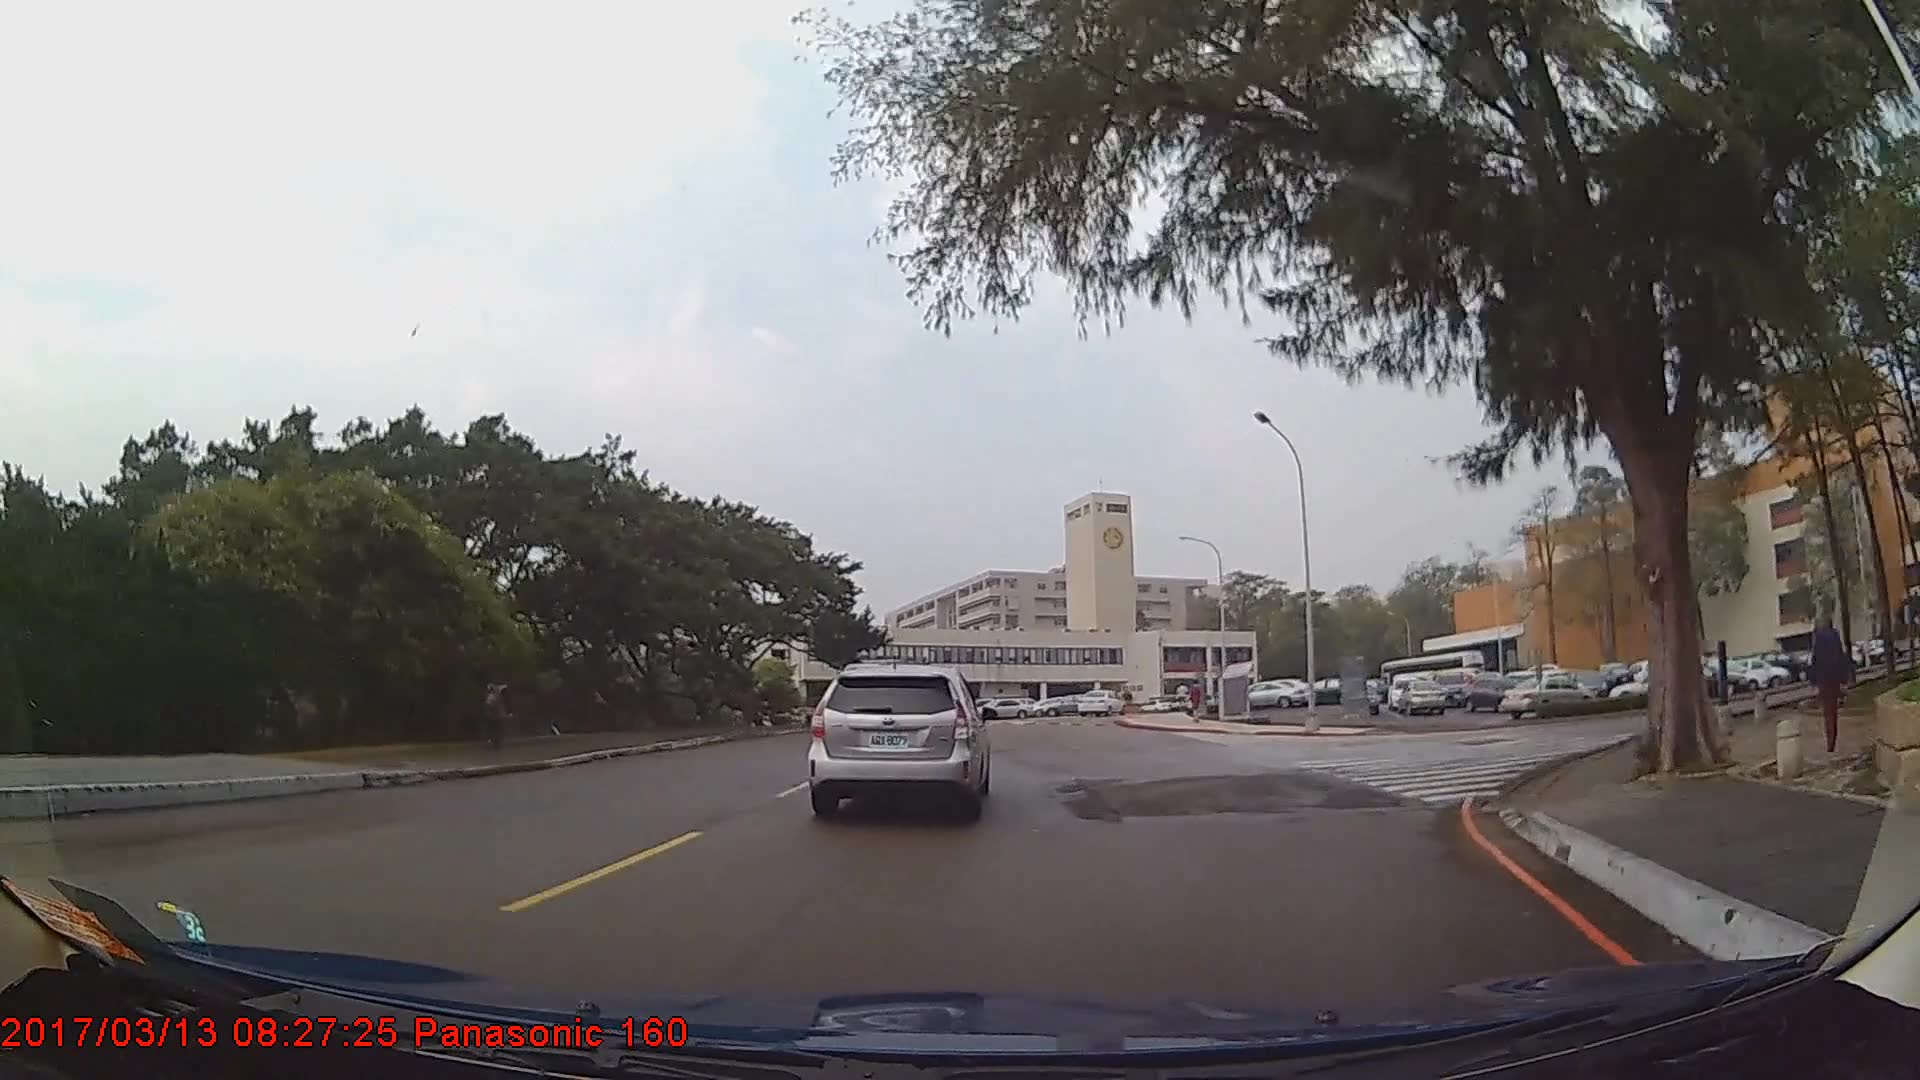pedestrian: (1802, 621, 1847, 754), (477, 669, 518, 754)
vehicle: (809, 661, 989, 819), (1498, 672, 1593, 719), (1459, 671, 1534, 711), (1396, 680, 1444, 719), (1235, 683, 1304, 710), (1431, 672, 1472, 711), (1072, 687, 1124, 717), (975, 697, 1034, 720)
